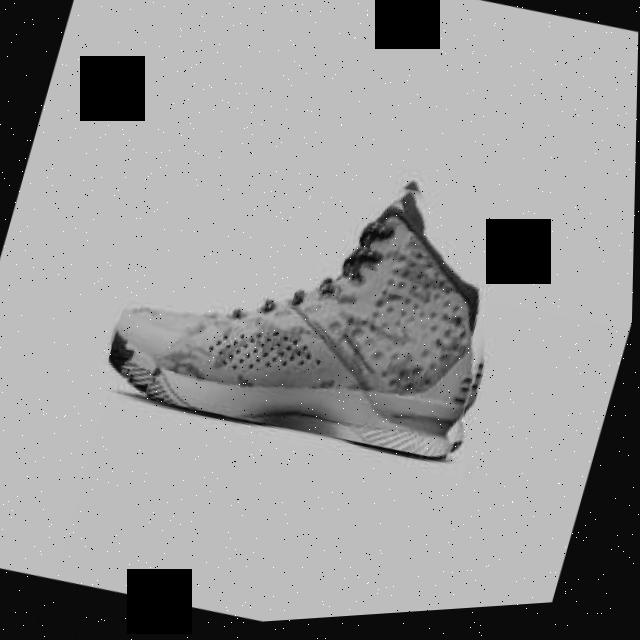shoe: (99, 113, 535, 488)
